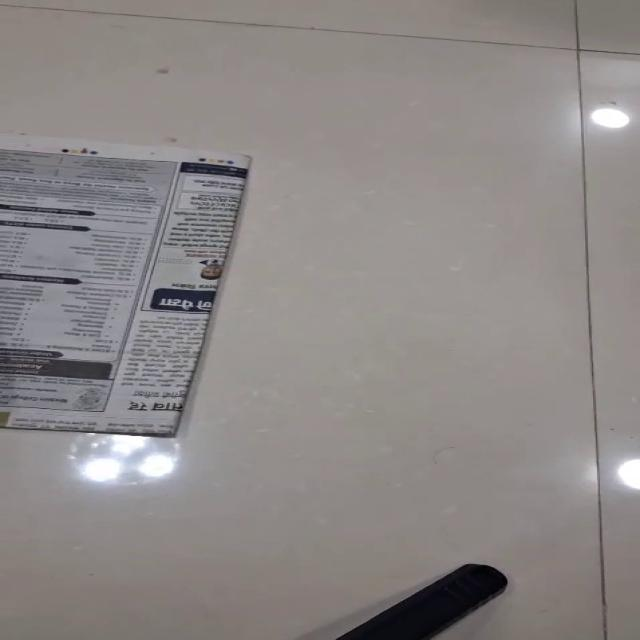paper: (0, 132, 252, 438)
